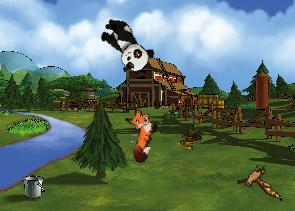eagle: (235, 162, 284, 201)
fox: (113, 104, 163, 164)
panda: (93, 13, 158, 77)
